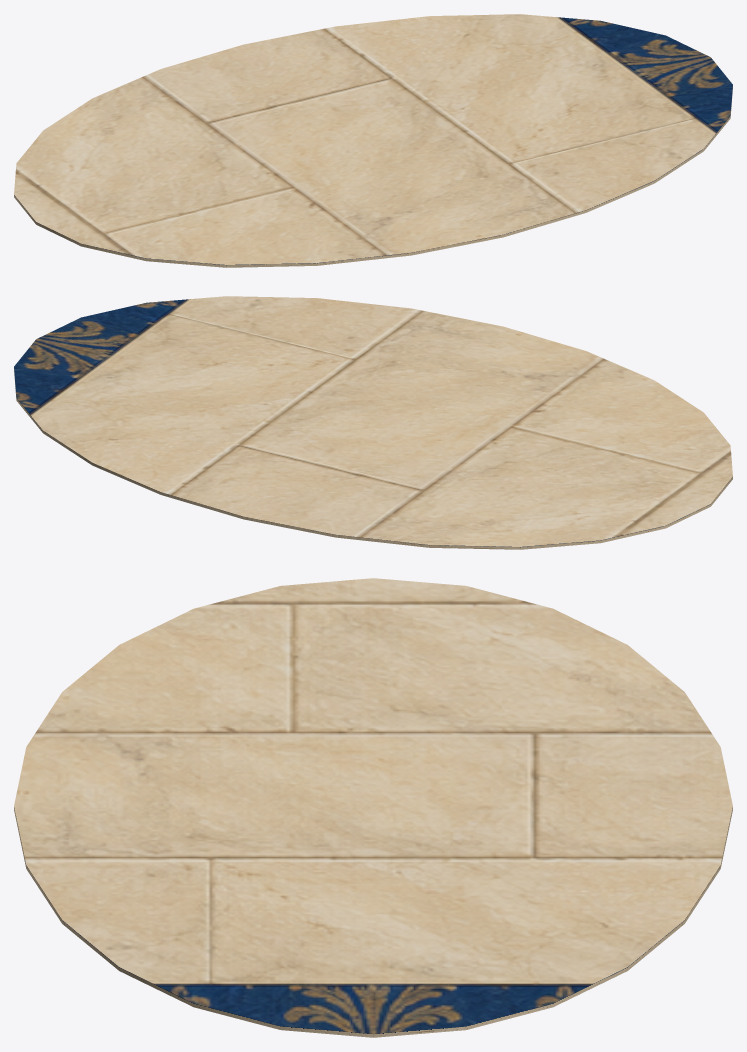
Rendered from blue-oval-rug.gltf.
The picture shows the model from 3 angles, top to bottom: view 1: azimuth 30°, elevation 25°; view 2: azimuth 150°, elevation 25°; view 3: azimuth 270°, elevation 25°; orthographic projection. The views are drawn at different scales.
Visible parts, largest first — view 1: kit:0:furniture:blue-rug:; view 2: kit:0:furniture:blue-rug:; view 3: kit:0:furniture:blue-rug:.
Part boxes in pixels (x1,y1,x2,y2): kit:0:furniture:blue-rug:: (14,14,732,267); kit:0:furniture:blue-rug:: (14,296,732,549); kit:0:furniture:blue-rug:: (14,578,732,1037).
Bounding box in the file's own units: 6 × 0.024 × 4.
1 material, 1 textured.
